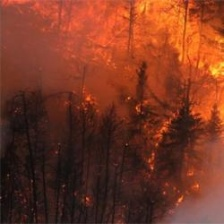fire: (109, 4, 224, 183)
